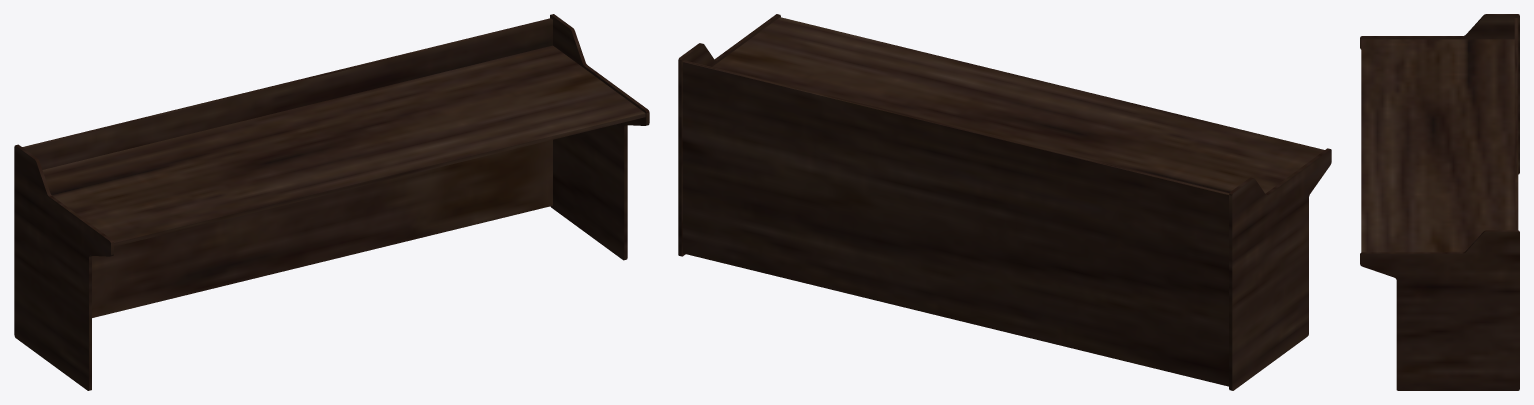
The model's file is desk.fbx.
3 views of the same model, side by side, from view 1: azimuth 30°, elevation 25°; view 2: azimuth 150°, elevation 25°; view 3: azimuth 270°, elevation 25° (orthographic). The views are drawn at different scales.
Parts seen in each view (by area): view 1: computer_desk; view 2: computer_desk; view 3: computer_desk.
Boxes of the visible parts, <box> form: computer_desk: <box>14,14,649,390</box>; computer_desk: <box>678,14,1331,390</box>; computer_desk: <box>1360,14,1519,390</box>.
Bounding box in the file's own units: 309 × 105 × 95.78.
